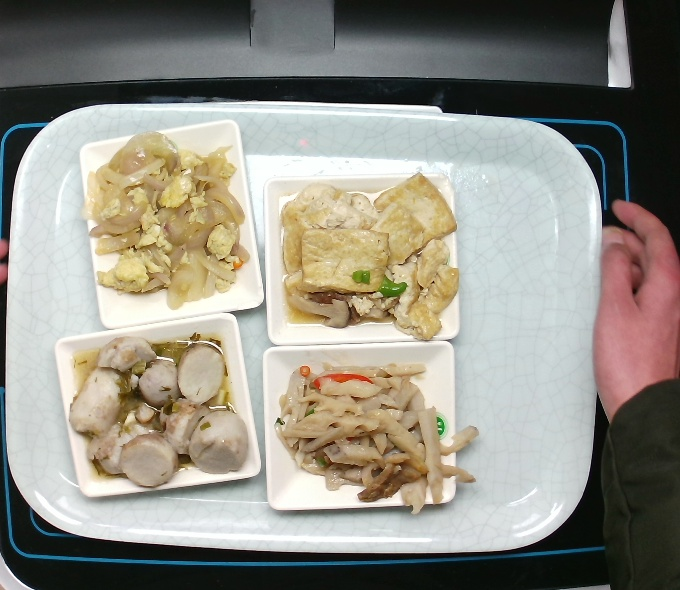wcq-JiaChangDouFu: (273, 165, 464, 343)
wcq-QingChaoOuPian: (266, 357, 480, 517)
wcq-YangCongChaoDan: (79, 129, 253, 313)
wcq-YangYu: (66, 329, 250, 492)
